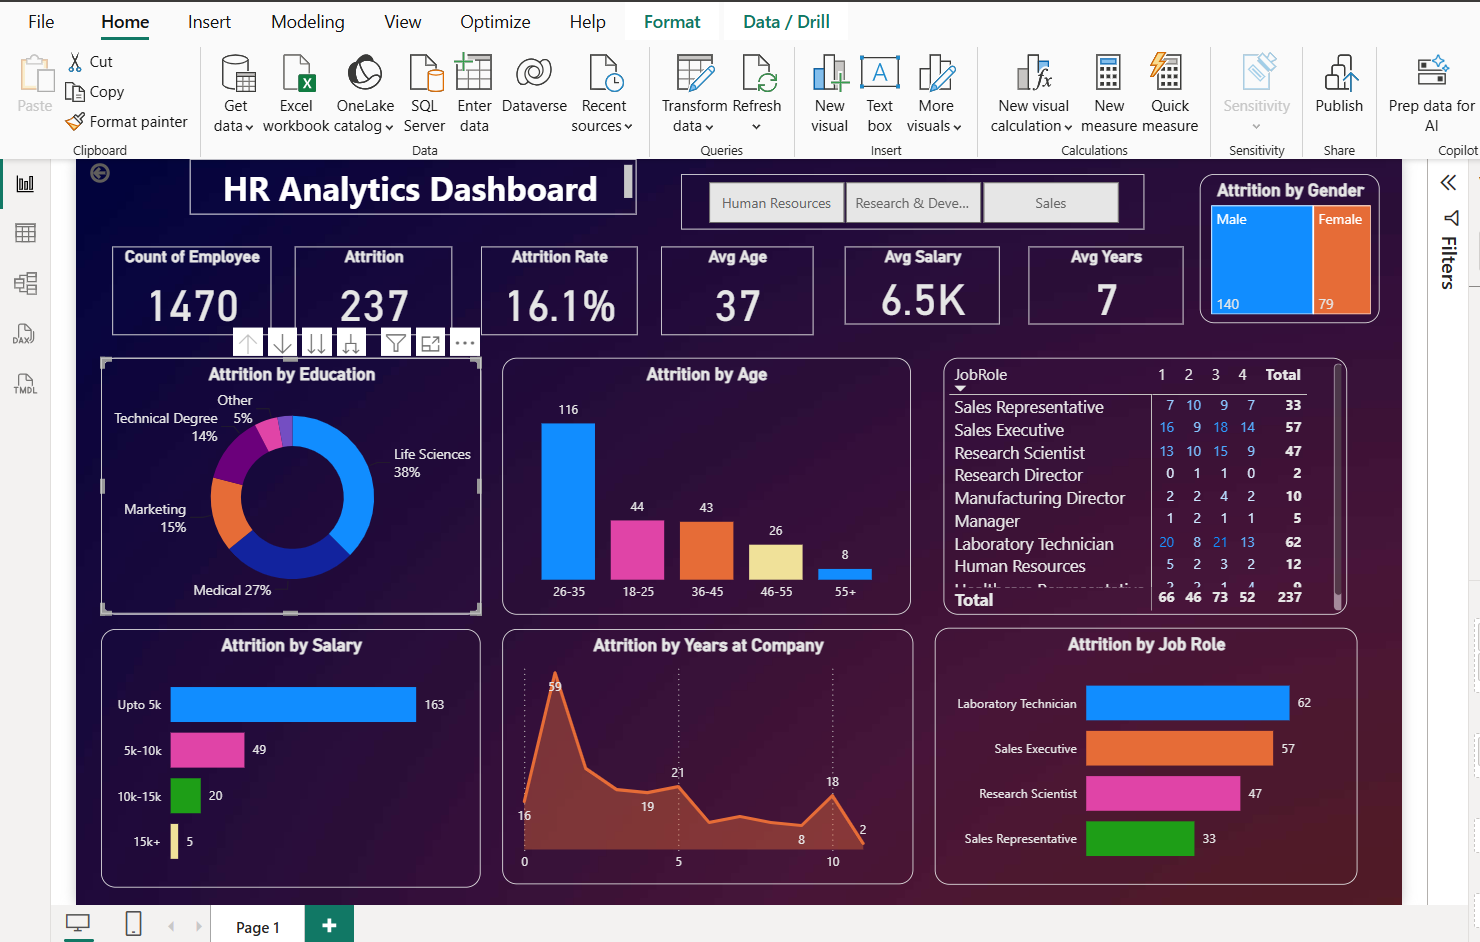

The page's visual inventory and layout, read from the dashboard file:
{"tool":"powerbi","page":{"name":"Page 1","canvas":[1280,720],"ordinal":0},"visuals":[{"type":"card","title":"Count of Employee","fields":{"Values":["CountNonNull(HR_Analytics.EmpID)"]},"box":[35,84.5,153.2,85.7],"z":0},{"type":"card","title":"Attrition","fields":{"Values":["Sum(HR_Analytics.AttritionCount)"]},"box":[211.1,84.5,152,85.7],"z":1000},{"type":"card","title":"Attrition Rate","fields":{"Values":["HR_Analytics.AttritionRate"]},"box":[390.9,84.5,150.8,85.7],"z":2000},{"type":"card","title":"Avg Age","fields":{"Values":["Avg(HR_Analytics.Age)"]},"box":[564.6,84.5,147.2,85.7],"z":3000},{"type":"actionButton","box":[10.1,0,100.8,26.9],"z":4000},{"type":"card","title":"Avg Salary","fields":{"Values":["Avg(HR_Analytics.MonthlyIncome)"]},"box":[742.5,84,149.5,75.6],"z":5000},{"type":"card","title":"Avg Years","fields":{"Values":["Avg(HR_Analytics.YearsAtCompany)"]},"box":[918.8,84,149.5,75.6],"z":6000},{"type":"donutChart","title":"Attrition by Education","fields":{"Y":["Sum(HR_Analytics.AttritionCount)"],"Category":["HR_Analytics.EducationField","HR_Analytics.YearsAtCompany"]},"box":[24.1,191.3,367.1,248],"z":7000},{"type":"columnChart","title":"Attrition by Age","fields":{"Category":["HR_Analytics.AgeGroup"],"Y":["Sum(HR_Analytics.AttritionCount)"]},"box":[411,191.3,394,248],"z":8000},{"type":"pivotTable","fields":{"Rows":["HR_Analytics.JobRole"],"Columns":["HR_Analytics.JobSatisfaction"],"Values":["Sum(HR_Analytics.AttritionCount)"]},"box":[837.6,191.3,389.8,248],"z":9000},{"type":"barChart","title":"Attrition by Salary","fields":{"Category":["HR_Analytics.SalarySlab"],"Y":["Sum(HR_Analytics.AttritionCount)"]},"box":[24.1,453.6,366.8,249.7],"z":10000},{"type":"barChart","title":"Attrition by Job Role","fields":{"Category":["HR_Analytics.JobRole"],"Y":["Sum(HR_Analytics.AttritionCount)"]},"box":[829.1,452.1,408.2,248],"z":11000},{"type":"areaChart","title":"Attrition by Years at Company","fields":{"Category":["HR_Analytics.YearsAtCompany"],"Y":["Sum(HR_Analytics.AttritionCount)"]},"box":[411,453.5,396.9,246.6],"z":12000},{"type":"treemap","title":"Attrition by Gender","fields":{"Group":["HR_Analytics.Gender"],"Values":["Sum(HR_Analytics.AttritionCount)"]},"box":[1085,14.1,174,144.3],"z":13000},{"type":"slicer","fields":{"Values":["HR_Analytics.Department"]},"box":[584.2,14.1,447,53.8],"z":14000},{"type":"textbox","box":[110.3,0,431.4,53.8],"z":15000}]}

Visuals, with their boxes in screenshot pixels (x1, y1, x2, y2):
"Count of Employee" card: (85, 220, 253, 314)
"Attrition" card: (278, 220, 446, 314)
"Attrition Rate" card: (476, 220, 642, 314)
"Avg Age" card: (667, 220, 829, 314)
actionButton: (57, 127, 168, 157)
"Avg Salary" card: (863, 220, 1027, 303)
"Avg Years" card: (1057, 220, 1221, 303)
"Attrition by Education" donutChart: (73, 338, 477, 610)
"Attrition by Age" columnChart: (498, 338, 932, 610)
pivotTable - HR_Analytics.JobRole x HR_Analytics.JobSatisfaction: (967, 338, 1396, 610)
"Attrition by Salary" barChart: (73, 626, 476, 901)
"Attrition by Job Role" barChart: (958, 624, 1407, 897)
"Attrition by Years at Company" areaChart: (498, 626, 935, 897)
"Attrition by Gender" treemap: (1240, 143, 1431, 301)
slicer - HR_Analytics.Department: (689, 143, 1180, 202)
textbox: (168, 127, 642, 186)
